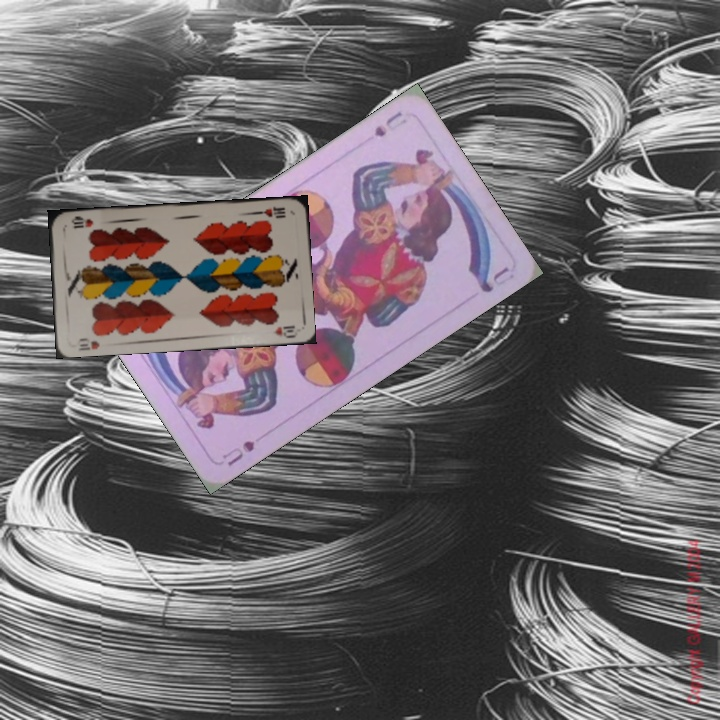H10: (251, 203, 288, 220), (74, 334, 102, 352)
SU: (370, 107, 410, 140), (218, 436, 257, 469)
